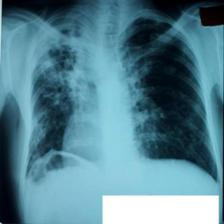tuberculosis: (21, 6, 220, 182)
